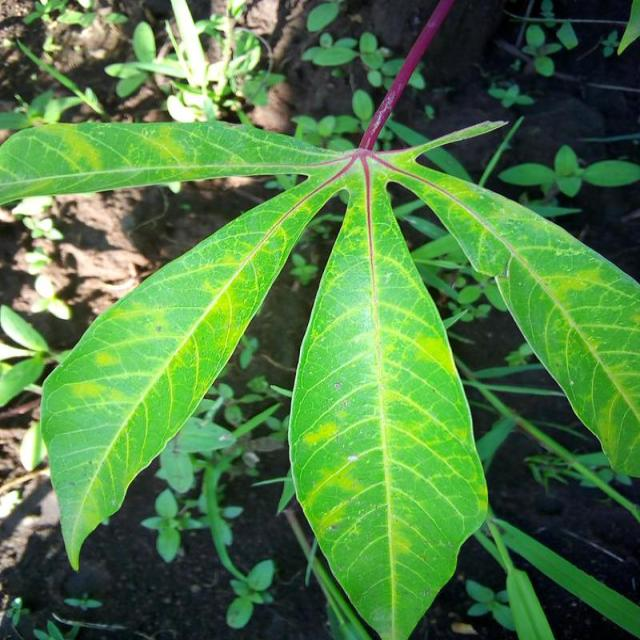cassava leaf: (9, 2, 638, 637), (38, 156, 352, 572), (286, 155, 489, 638), (379, 150, 639, 480)
